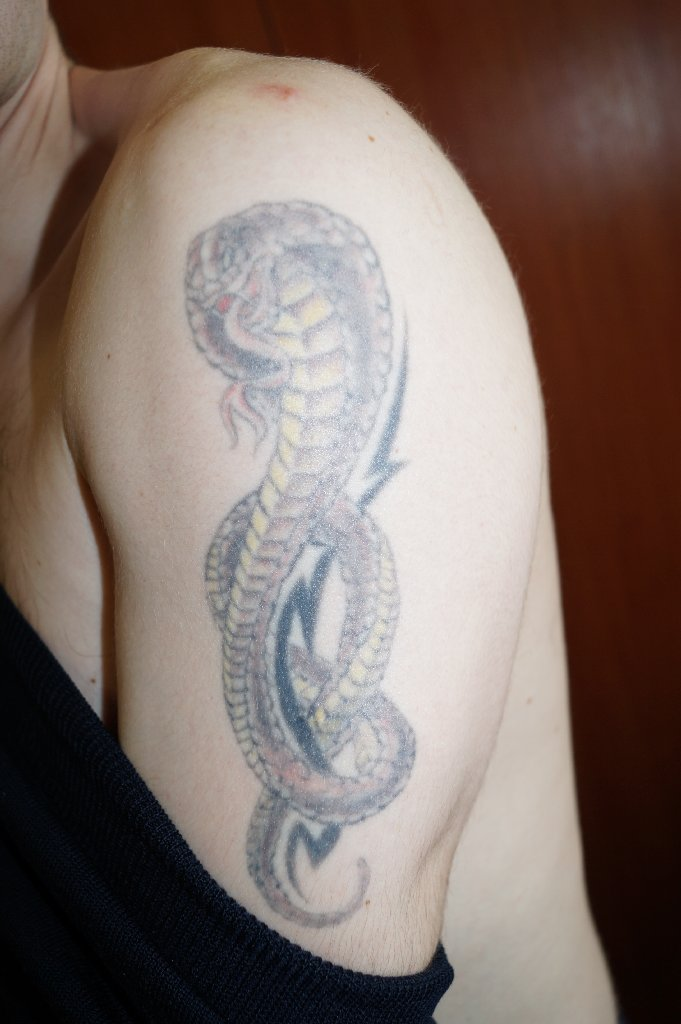tatu7_zmeya: (177, 148, 431, 938)
